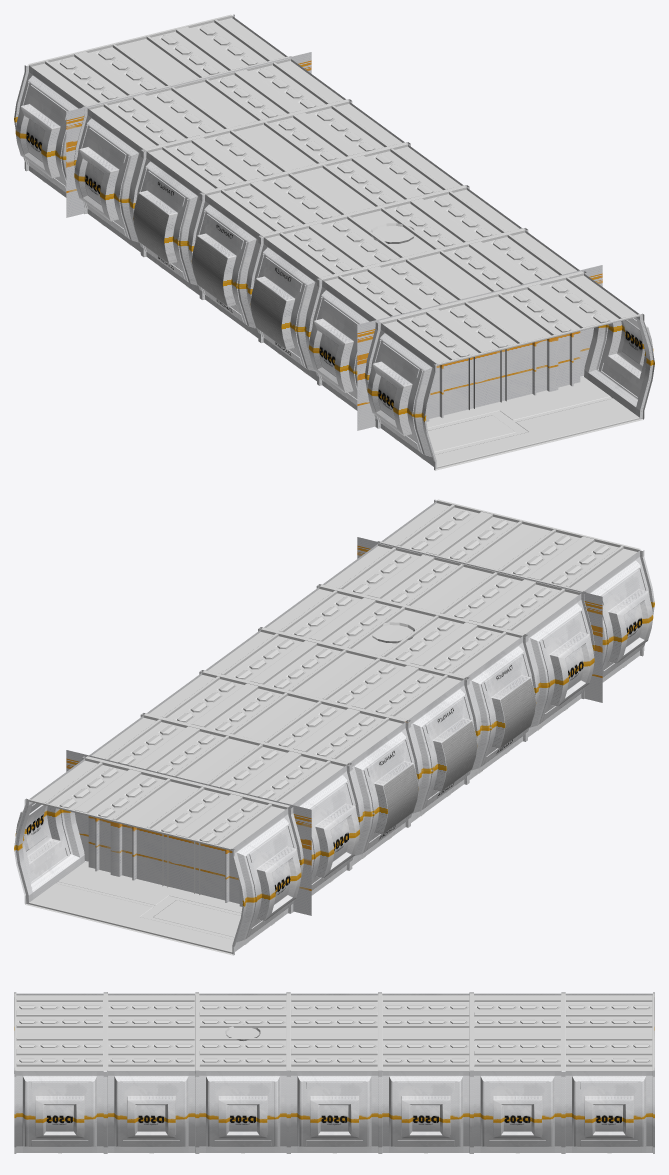
The model's file is Sci_Fi_Interior.fbx.
3 renders of one model, top to bottom at view 1: azimuth 30°, elevation 25°; view 2: azimuth 150°, elevation 25°; view 3: azimuth 270°, elevation 25°, orthographic. The views are drawn at different scales.
Parts seen in each view (by area): view 1: SCI_FI_Low_Poly; view 2: SCI_FI_Low_Poly; view 3: SCI_FI_Low_Poly.
Boxes of the visible parts, x1=… form: SCI_FI_Low_Poly: x1=14, y1=14, x2=654, y2=470; SCI_FI_Low_Poly: x1=14, y1=499, x2=654, y2=955; SCI_FI_Low_Poly: x1=14, y1=992, x2=654, y2=1153.
Bounding box in the file's own units: 126 × 51.91 × 350.
